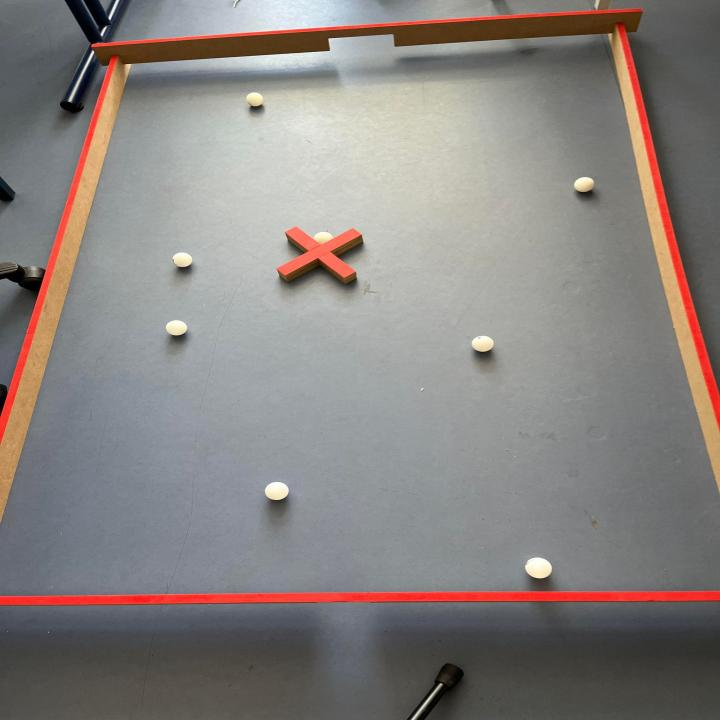white: (525, 557, 553, 580), (573, 174, 598, 195), (470, 334, 497, 353), (265, 479, 289, 500), (244, 91, 265, 110), (166, 319, 187, 338), (172, 250, 192, 268), (312, 229, 334, 243)
